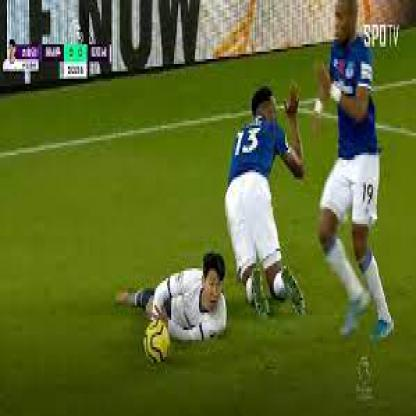Fall_Down: (223, 78, 306, 320)
